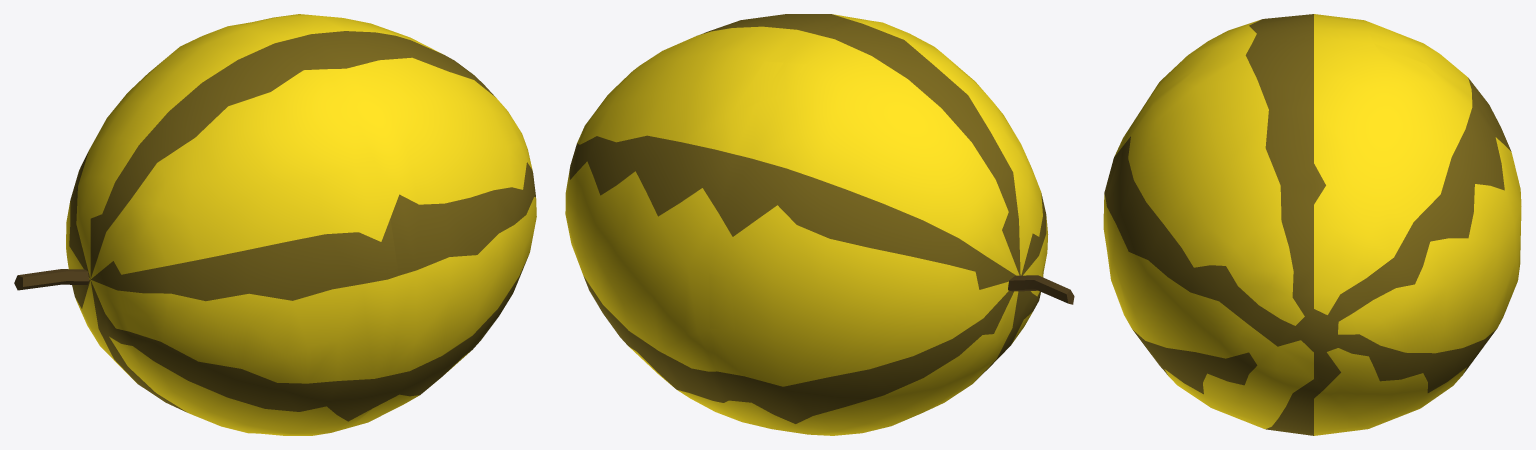
File: Watermelon.fbx
3 views of the same model, side by side, from view 1: azimuth 30°, elevation 25°; view 2: azimuth 150°, elevation 25°; view 3: azimuth 270°, elevation 25° (orthographic).
Parts seen in each view (by area): view 1: Watermelon, Watermelon.002, Watermelon.001; view 2: Watermelon, Watermelon.001, Watermelon.002; view 3: Watermelon, Watermelon.002, Watermelon.001.
Boxes of the visible parts, left/top/right/bottom form: Watermelon: left=14, top=14, right=536, bottom=435; Watermelon.002: left=240, top=18, right=416, bottom=427; Watermelon.001: left=228, top=22, right=398, bottom=432; Watermelon: left=565, top=14, right=1074, bottom=435; Watermelon.001: left=709, top=18, right=862, bottom=331; Watermelon.002: left=731, top=14, right=845, bottom=113; Watermelon: left=1103, top=14, right=1521, bottom=435; Watermelon.002: left=1105, top=37, right=1442, bottom=205; Watermelon.001: left=1104, top=27, right=1425, bottom=197.
Bounding box in the file's own units: 602 × 442 × 444.
